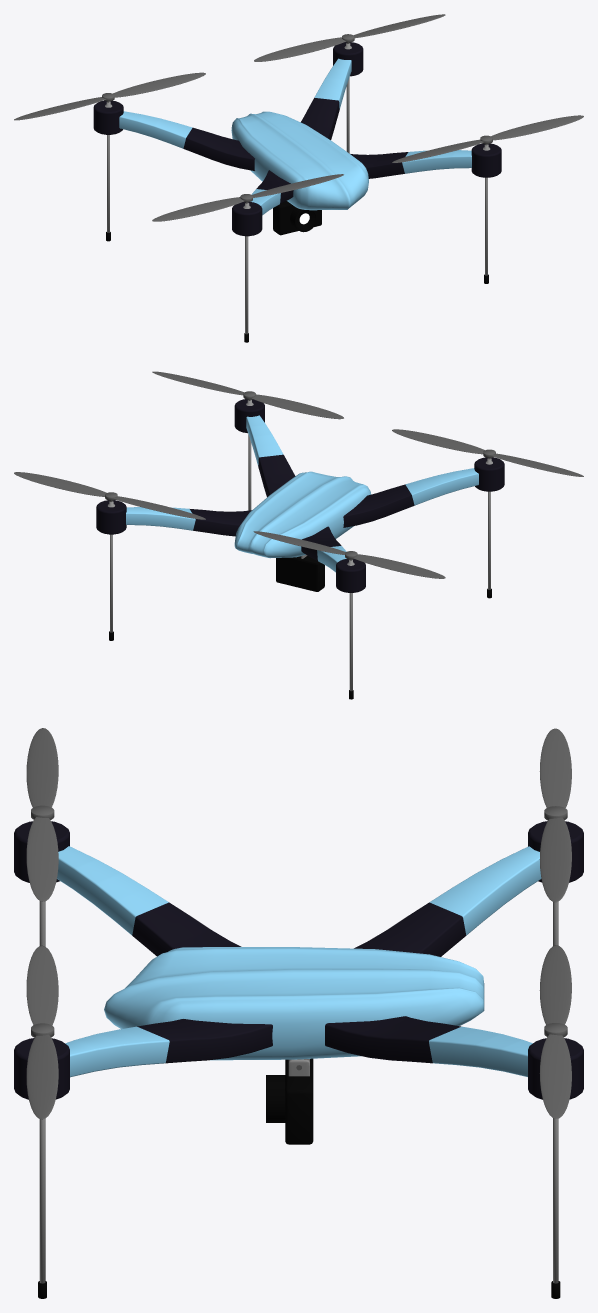
File: Drone.glb
The picture shows the model from 3 angles, top to bottom: view 1: azimuth 30°, elevation 25°; view 2: azimuth 150°, elevation 25°; view 3: azimuth 270°, elevation 25°; orthographic projection. The views are drawn at different scales.
Parts seen in each view (by area): view 1: Wing, Cube.001, Cylinder.019, Propeller.002, Propeller, Propeller.003, Propeller.001, Cylinder.021, CameraBody, Cylinder.018; view 2: Wing, Cube.001, Cylinder.019, Propeller.002, Propeller.003, Propeller.001, Propeller, CameraBody, Cylinder.021; view 3: Wing, Cube.001, Cylinder.019, Propeller.002, Propeller.003, Propeller.001, Propeller, Cylinder.021, CameraBody, Cylinder.018.
Boxes of the visible parts, <box> form: Wing: <box>119,58,471,215</box>; Cube.001: <box>231,111,368,210</box>; Cylinder.019: <box>93,42,501,236</box>; Propeller.002: <box>392,115,583,162</box>; Propeller: <box>14,72,205,120</box>; Propeller.003: <box>152,174,343,221</box>; Propeller.001: <box>254,14,445,61</box>; Cylinder.021: <box>106,77,488,342</box>; CameraBody: <box>273,201,321,235</box>; Cylinder.018: <box>290,207,317,232</box>; Wing: <box>126,415,478,572</box>; Cube.001: <box>234,471,371,558</box>; Cylinder.019: <box>96,399,504,592</box>; Propeller.002: <box>152,371,343,419</box>; Propeller.003: <box>392,429,583,476</box>; Propeller.001: <box>14,472,205,519</box>; Propeller: <box>253,531,445,578</box>; CameraBody: <box>276,556,324,591</box>; Cylinder.021: <box>109,434,491,699</box>; Wing: <box>57,846,541,1077</box>; Cube.001: <box>104,947,484,1060</box>; Cylinder.019: <box>14,821,583,1099</box>; Propeller.002: <box>26,945,58,1119</box>; Propeller.003: <box>26,728,58,901</box>; Propeller.001: <box>539,945,571,1118</box>; Propeller: <box>539,728,571,902</box>; Cylinder.021: <box>38,901,560,1298</box>; CameraBody: <box>285,1058,313,1144</box>; Cylinder.018: <box>266,1075,285,1122</box>.
Bounding box in the file's own units: 1.67 × 0.5365 × 1.03.
